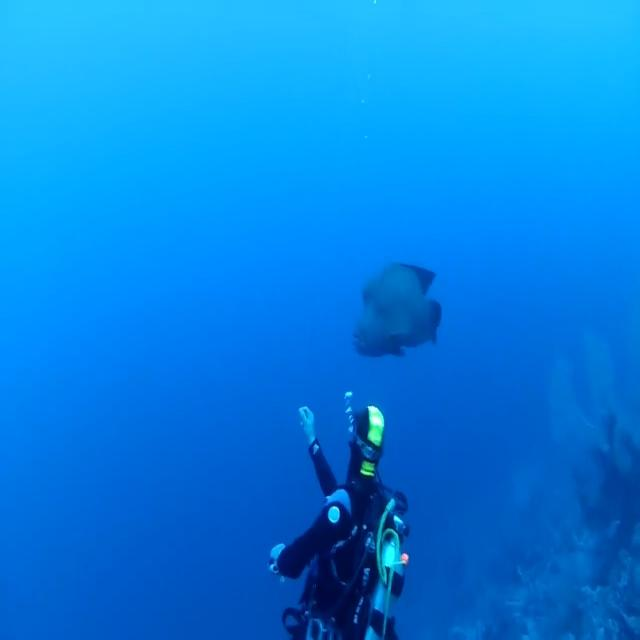Napoleon -Endangered-: (354, 261, 440, 361)
